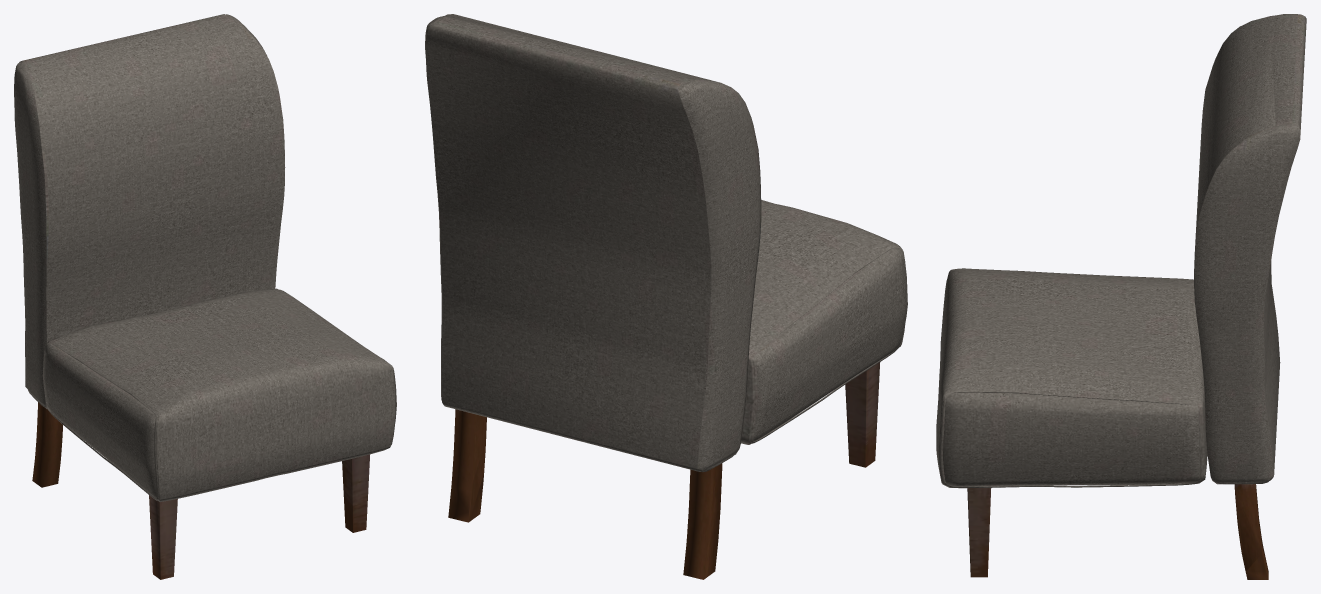
File: armchair_abo_B07BWKFNDK.glb
3 renders of one model, left to right at view 1: azimuth 30°, elevation 25°; view 2: azimuth 150°, elevation 25°; view 3: azimuth 270°, elevation 25°, orthographic. The views are drawn at different scales.
Visible parts, largest first — view 1: RootNode; view 2: RootNode; view 3: RootNode.
Boxes of the visible parts, x1=… form: RootNode: x1=14, y1=14, x2=396, y2=579; RootNode: x1=425, y1=14, x2=907, y2=579; RootNode: x1=936, y1=14, x2=1306, y2=579.
Size of the model in its own units: 0.513 by 0.804 by 0.5916.
1 material, 1 textured.
